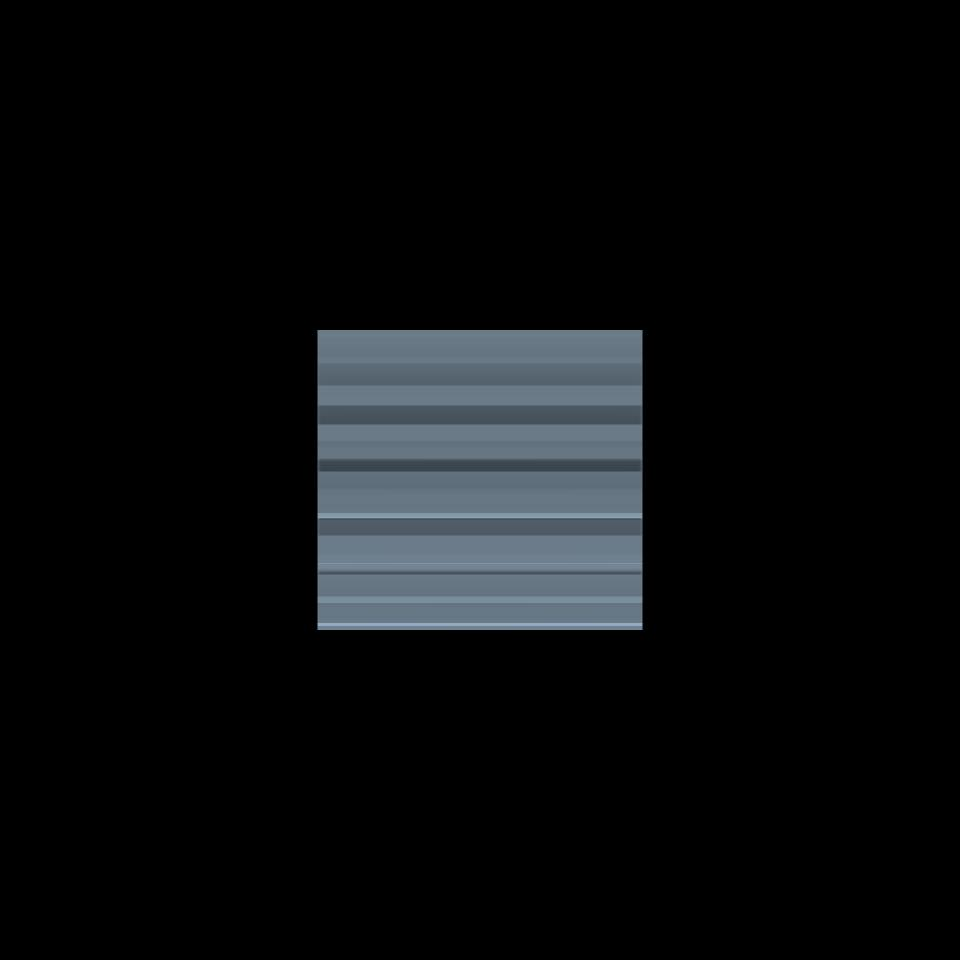Straight: (317, 328, 643, 628)
